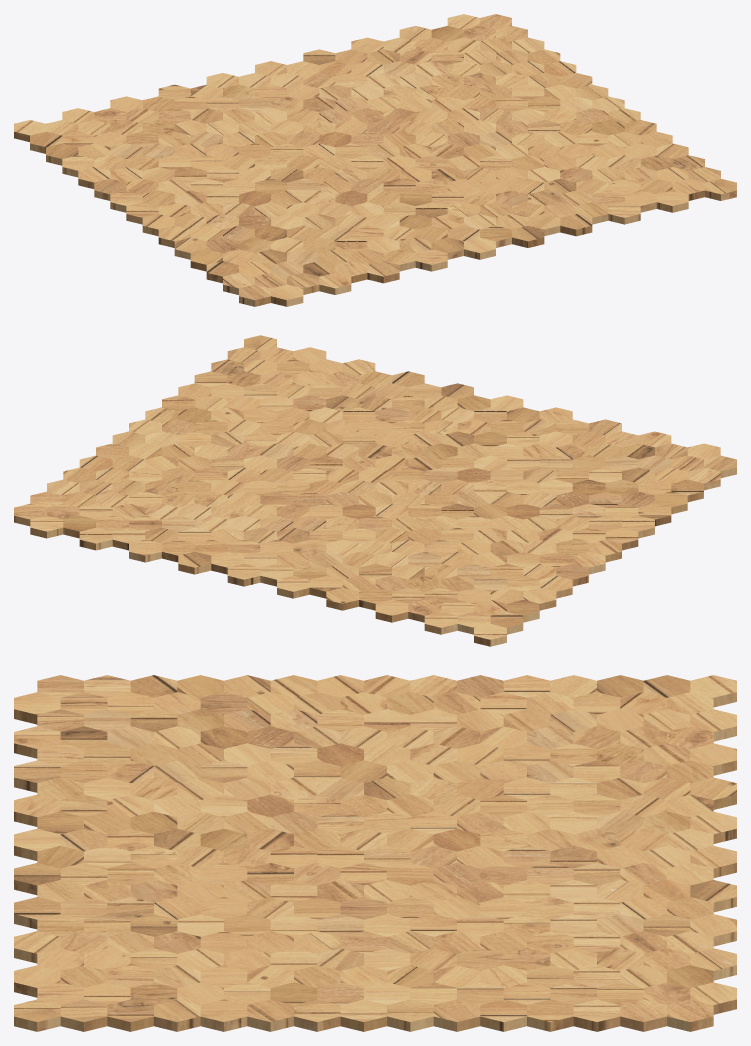
The model's file is platform1.glb.
3 views of the same model, one above another, from view 1: azimuth 30°, elevation 25°; view 2: azimuth 150°, elevation 25°; view 3: azimuth 270°, elevation 25° (orthographic). The views are drawn at different scales.
Parts seen in each view (by area): view 1: Plane.004, Plane.003, Plane.005, Plane.008, Plane.009, Plane.010, Plane.002, Plane.007, Plane.011, Plane.006, Plane.012, Plane.015 (+22 smaller); view 2: Plane.300, Plane.301, Plane.293, Plane.298, Plane.297, Plane.294, Plane.295, Plane.296, Plane.292, Plane.299, Plane.285, Plane.232 (+22 smaller); view 3: Plane.091, Plane.031, Plane.191, Plane.251, Plane.111, Plane.291, Plane.011, Plane.051, Plane.071, Plane.131, Plane.171, Plane.211 (+288 smaller).
Boxes of the visible parts, x1=… form: Plane.004: x1=367, y1=261, x2=399, y2=283; Plane.003: x1=319, y1=272, x2=351, y2=294; Plane.005: x1=415, y1=249, x2=447, y2=271; Plane.008: x1=560, y1=214, x2=592, y2=236; Plane.009: x1=608, y1=202, x2=640, y2=224; Plane.010: x1=656, y1=190, x2=688, y2=212; Plane.002: x1=271, y1=284, x2=303, y2=306; Plane.007: x1=512, y1=225, x2=544, y2=247; Plane.011: x1=705, y1=178, x2=736, y2=200; Plane.006: x1=464, y1=237, x2=495, y2=259; Plane.012: x1=239, y1=284, x2=270, y2=306; Plane.015: x1=383, y1=249, x2=415, y2=271; Plane.300: x1=79, y1=527, x2=112, y2=550; Plane.301: x1=30, y1=515, x2=63, y2=538; Plane.293: x1=424, y1=612, x2=457, y2=634; Plane.298: x1=178, y1=551, x2=211, y2=574; Plane.297: x1=227, y1=564, x2=260, y2=586; Plane.294: x1=375, y1=600, x2=408, y2=622; Plane.295: x1=326, y1=588, x2=358, y2=610; Plane.296: x1=277, y1=575, x2=309, y2=598; Plane.292: x1=474, y1=624, x2=506, y2=646; Plane.299: x1=129, y1=539, x2=161, y2=562; Plane.285: x1=309, y1=576, x2=342, y2=598; Plane.232: x1=523, y1=588, x2=556, y2=610; Plane.091: x1=200, y1=999, x2=247, y2=1031; Plane.031: x1=60, y1=999, x2=107, y2=1031; Plane.191: x1=433, y1=999, x2=480, y2=1031; Plane.251: x1=573, y1=999, x2=620, y2=1031; Plane.111: x1=247, y1=999, x2=293, y2=1031; Plane.291: x1=667, y1=999, x2=713, y2=1031; Plane.011: x1=14, y1=999, x2=60, y2=1031; Plane.051: x1=107, y1=999, x2=153, y2=1031; Plane.071: x1=154, y1=999, x2=200, y2=1031; Plane.131: x1=294, y1=999, x2=340, y2=1031; Plane.171: x1=387, y1=999, x2=433, y2=1031; Plane.211: x1=480, y1=999, x2=526, y2=1031.
Bounding box in the file's own units: 30.5 × 0.4 × 26.85.
Materials: 1 (1 with a texture image).
